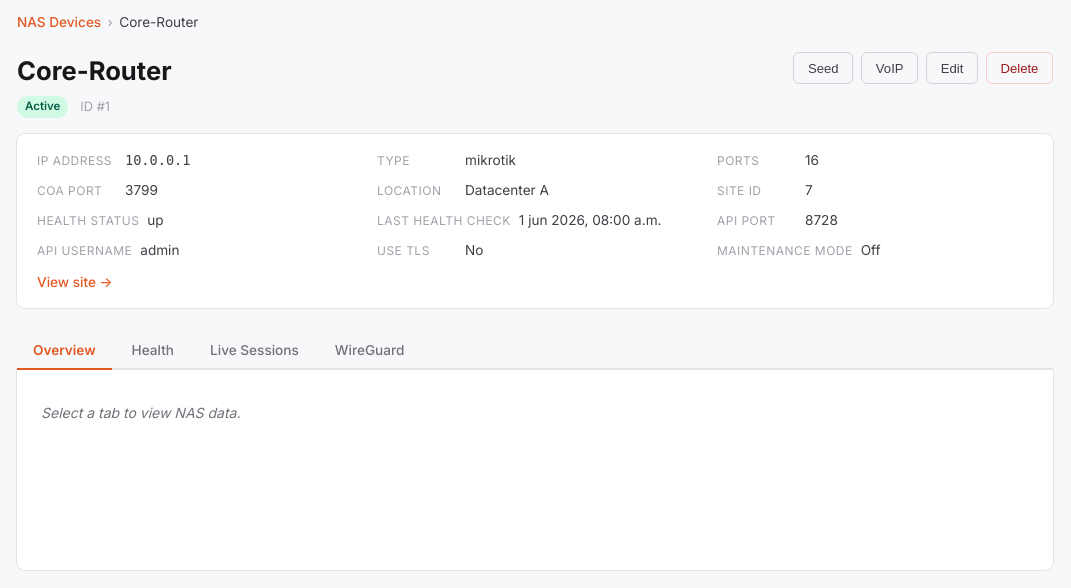
it: NasDetail page › shows health check buttons for admin role
Expected: the heading "Core-Router" is shown, 17,52 -> 172,91
Note: Click the Health tab
Click the button "Health" at point(153, 351), box 116,332 -> 190,370
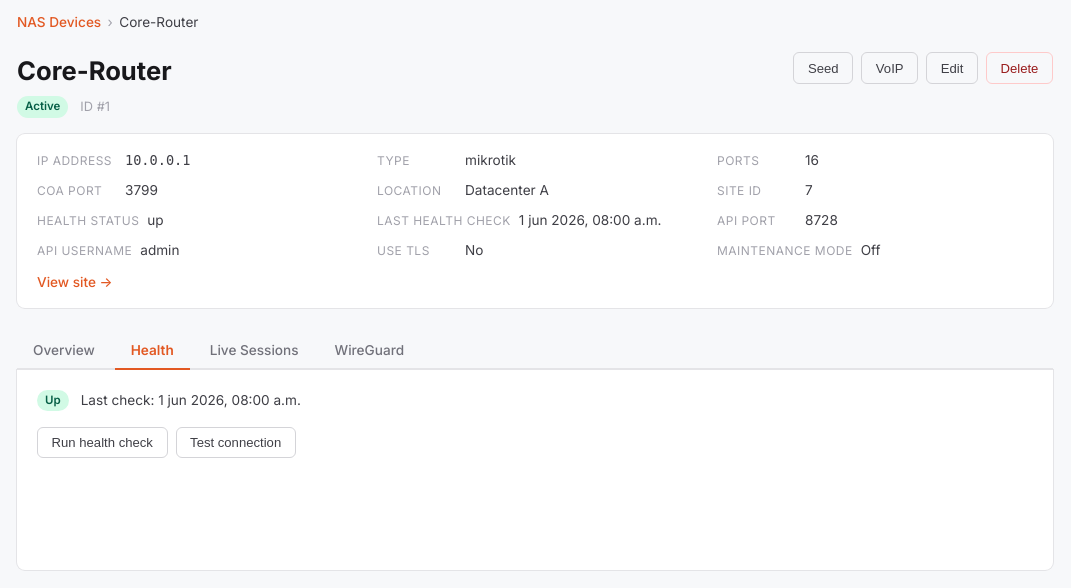
Expected: the button "Run health check" is shown, 37,427 -> 168,458
Expected: the button "Test connection" is shown, 176,427 -> 296,458
